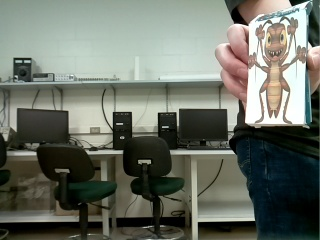Angry: (248, 16, 306, 124)
